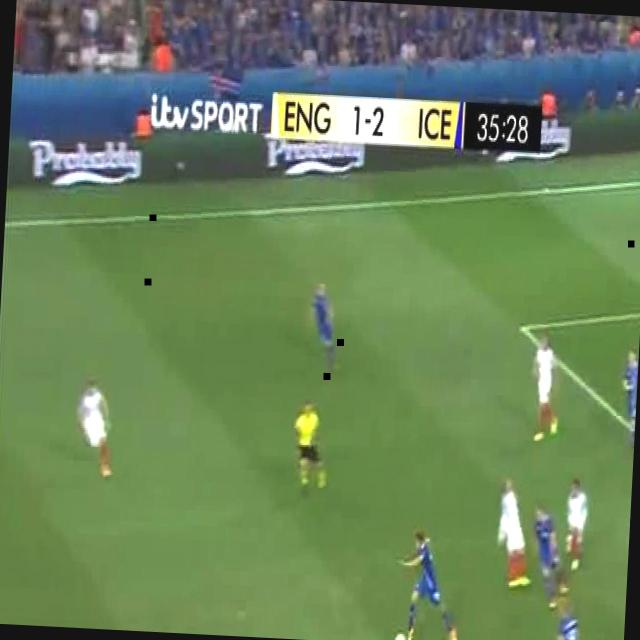ball: (393, 629, 406, 640)
player-white: (393, 530, 461, 640), (529, 501, 573, 612), (494, 477, 535, 595), (76, 377, 116, 478), (528, 334, 564, 446), (291, 395, 329, 493), (309, 283, 343, 373), (562, 478, 589, 577), (618, 345, 639, 457), (554, 605, 588, 640)
